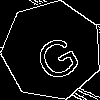G: (27, 25, 84, 85)
